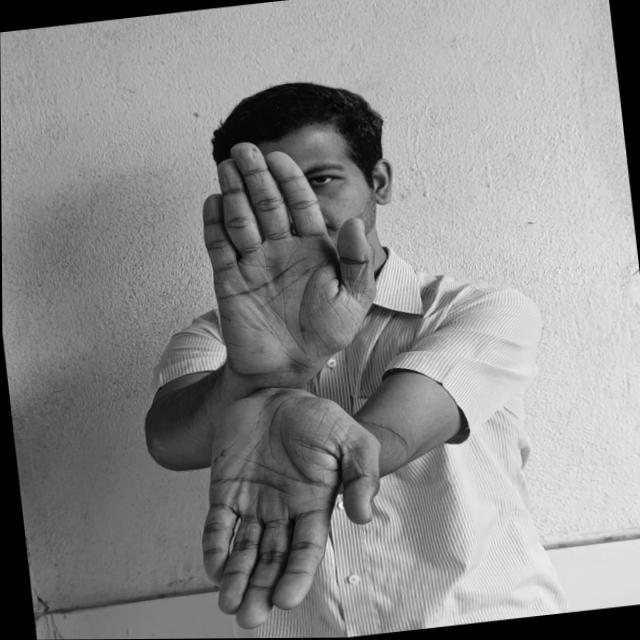Morning: (150, 131, 409, 633)
